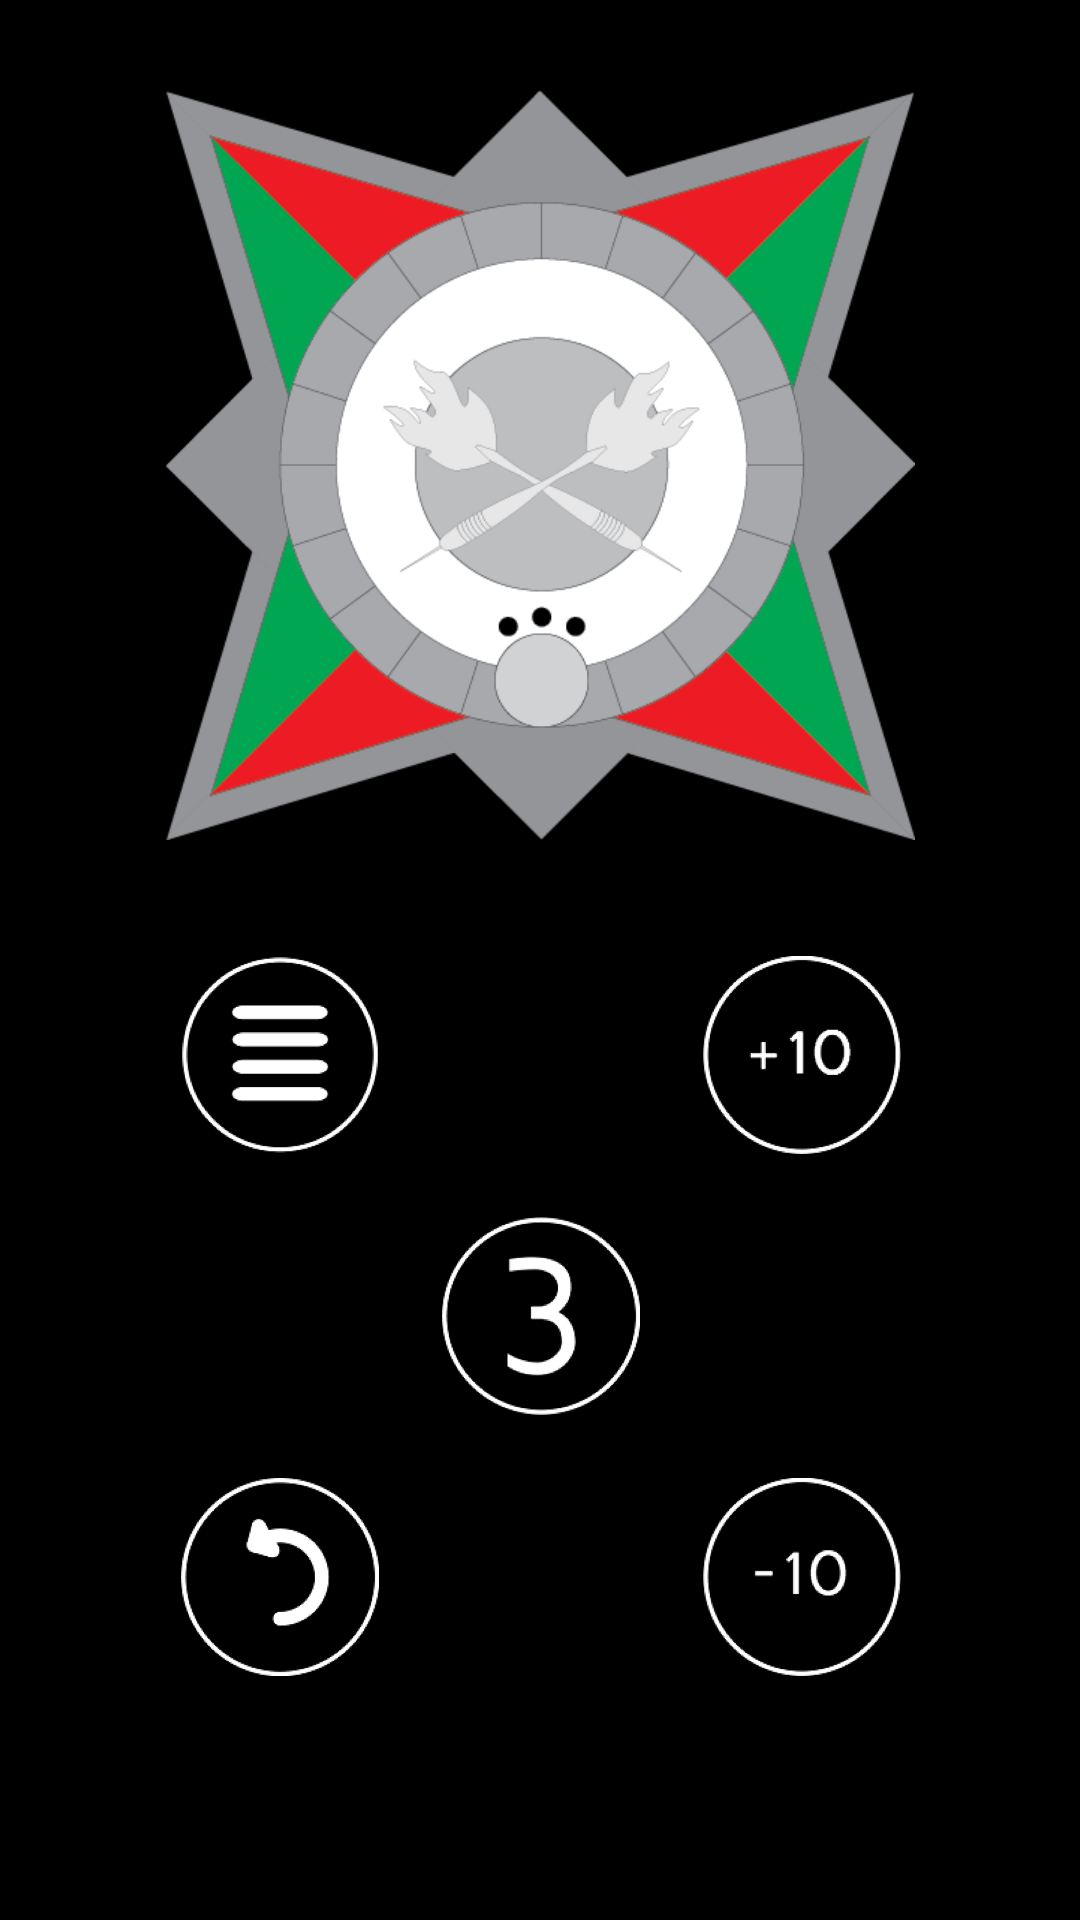

Where icons sit on this 1080×1920 app screen, as (x1, y1, x2, y2):
score back: (181, 1478, 379, 1676)
score menu: (182, 957, 378, 1153)
